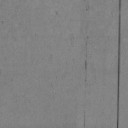surface scratch: (116, 0, 122, 128), (84, 60, 87, 70)
